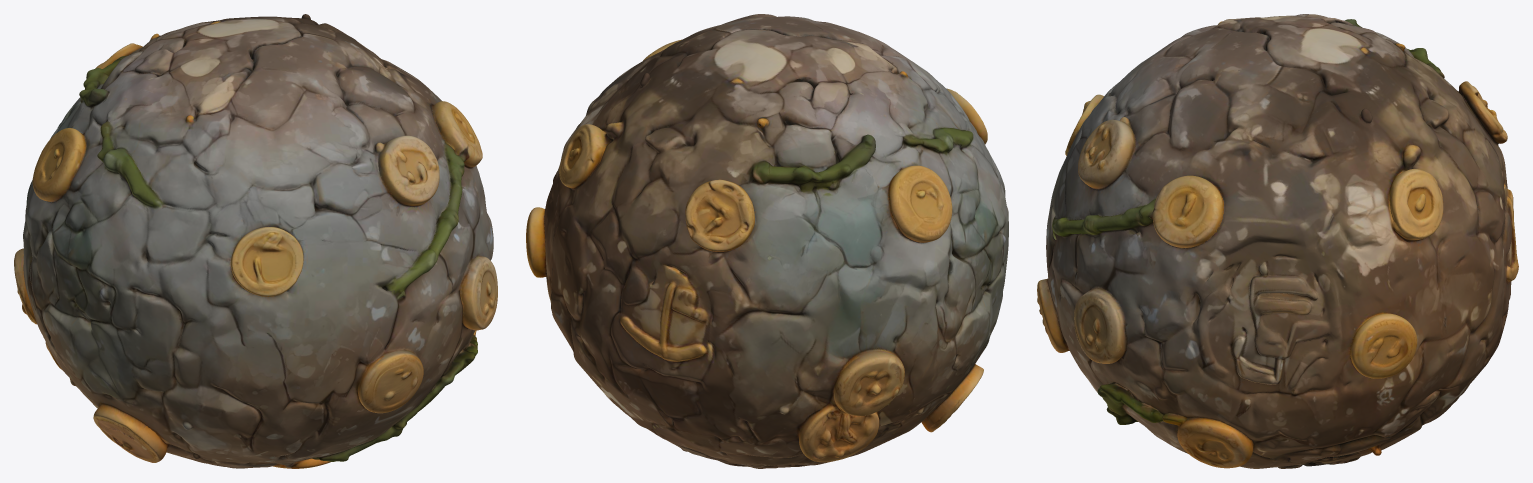
The model's file is boulder.glb.
The picture shows the model from 3 angles, left to right: view 1: azimuth 30°, elevation 25°; view 2: azimuth 150°, elevation 25°; view 3: azimuth 270°, elevation 25°; orthographic projection.
Parts seen in each view (by area): view 1: tripo_node_c930f30b-e688-4ee5-8c15-0e31dd17a555; view 2: tripo_node_c930f30b-e688-4ee5-8c15-0e31dd17a555; view 3: tripo_node_c930f30b-e688-4ee5-8c15-0e31dd17a555.
Boxes of the visible parts, left/top/right/bottom form: tripo_node_c930f30b-e688-4ee5-8c15-0e31dd17a555: left=14, top=14, right=497, bottom=468; tripo_node_c930f30b-e688-4ee5-8c15-0e31dd17a555: left=526, top=14, right=1008, bottom=468; tripo_node_c930f30b-e688-4ee5-8c15-0e31dd17a555: left=1037, top=14, right=1518, bottom=468.
Bounding box in the file's own units: 0.9878 × 0.945 × 1.
1 material, 1 textured.
